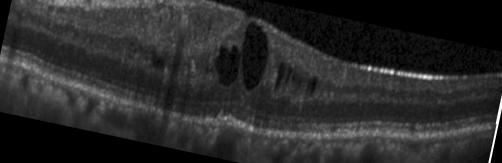intraretinal_cyst: (242, 22, 268, 90), (215, 45, 241, 87), (275, 62, 286, 89), (151, 51, 164, 68), (286, 67, 292, 84), (310, 79, 317, 93), (292, 73, 298, 83), (307, 81, 311, 91)
